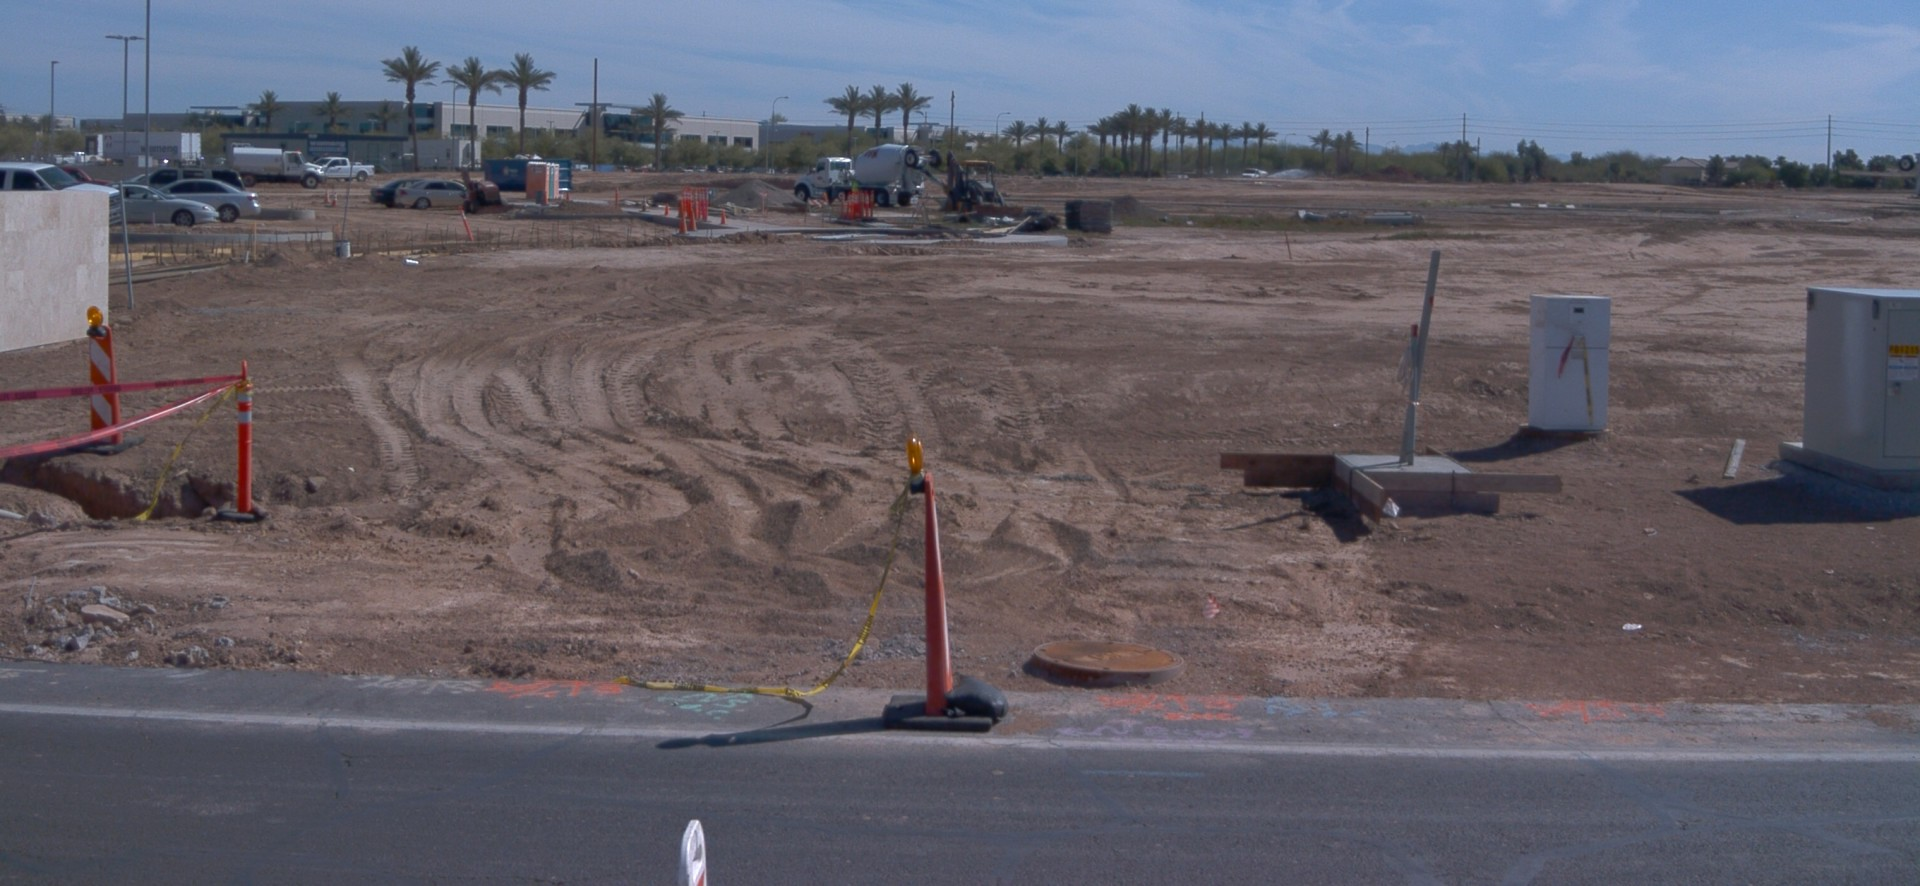TYPE_PEDESTRIAN: (851, 176, 864, 190)
TYPE_VEHICLE: (793, 141, 951, 207), (0, 163, 124, 229), (110, 182, 222, 227), (157, 174, 265, 220), (225, 147, 324, 194), (940, 156, 1006, 223), (99, 126, 205, 166), (11, 133, 101, 167), (461, 159, 513, 217), (128, 169, 245, 192), (395, 179, 469, 213), (371, 173, 421, 213), (315, 154, 378, 182), (56, 162, 116, 186), (1900, 147, 1920, 211), (1242, 166, 1269, 180), (131, 176, 145, 181)
